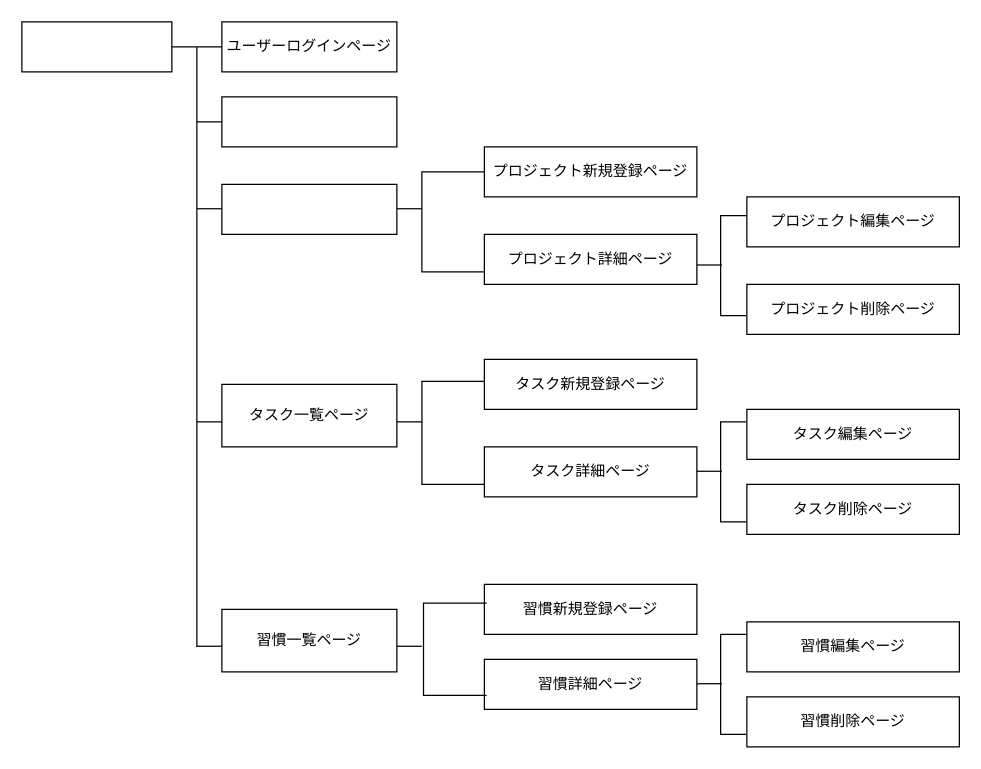
The diagram is 981 pixels wide and 769 high, and some of its shapes have lost their labels. The centre of each missing label's shape, as x and y in pixels:
"プロジェクト一覧ページ" belongs at point (309, 208).
"ユーザー新規登録ページ" belongs at point (309, 121).
"一覧ページ (カレンダー表示)" belongs at point (96, 46).
